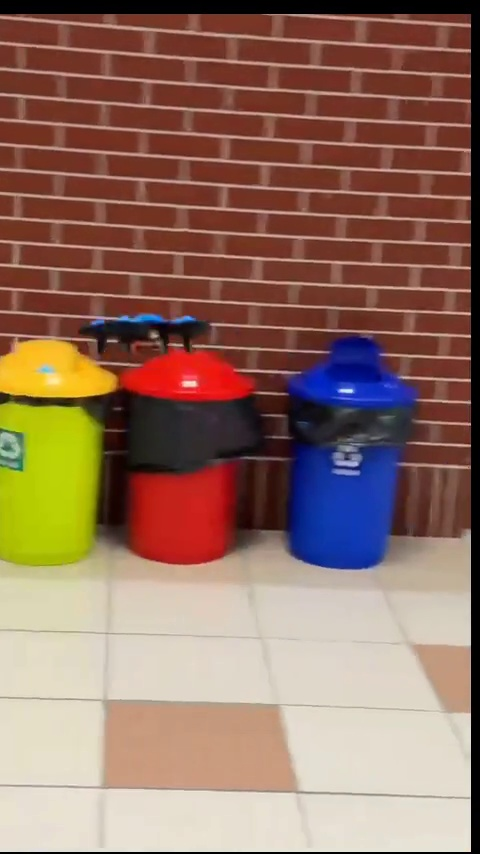drone: (78, 314, 217, 349)
